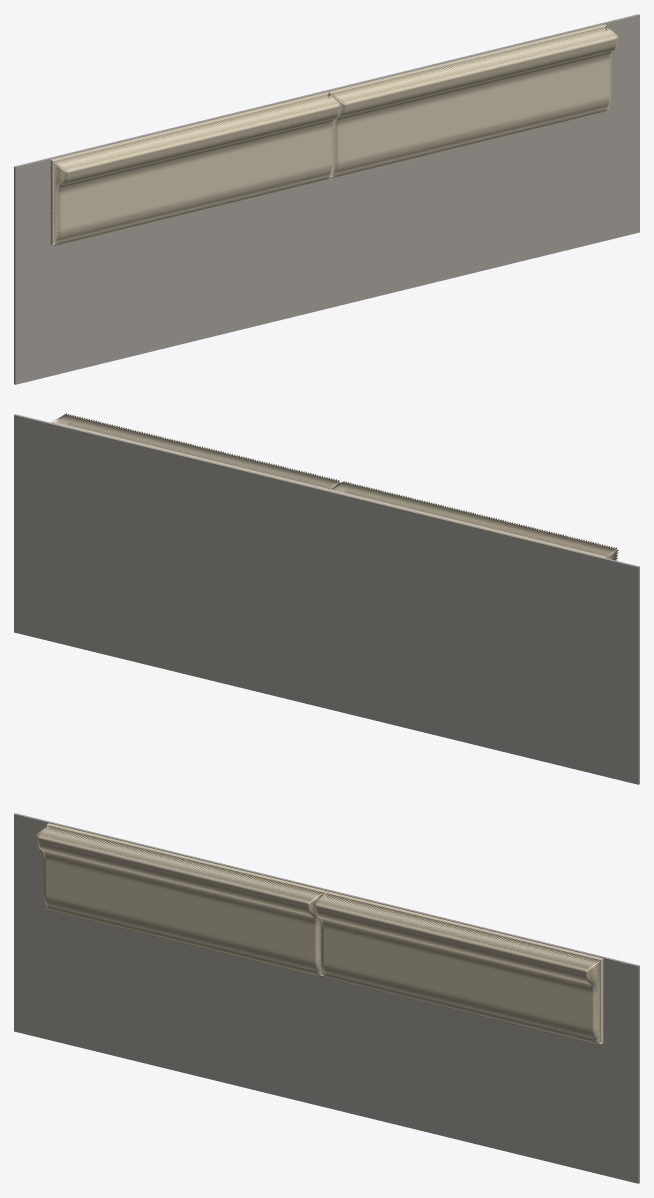
File: terilgan.glb
3 views of the same model, one above another, from view 1: azimuth 30°, elevation 25°; view 2: azimuth 150°, elevation 25°; view 3: azimuth 330°, elevation 25° (orthographic).
Visible parts, largest first — view 1: Devor, t0, t1; view 2: Devor, t0, t1; view 3: Devor, t1, t0.
Part boxes in pixels (x1=…): Devor: x1=14, y1=14, x2=639, y2=384; t0: x1=50, y1=92, x2=340, y2=246; t1: x1=328, y1=24, x2=618, y2=178; Devor: x1=14, y1=414, x2=639, y2=784; t0: x1=328, y1=481, x2=618, y2=560; t1: x1=51, y1=413, x2=341, y2=490; Devor: x1=14, y1=813, x2=639, y2=1183; t1: x1=313, y1=891, x2=603, y2=1045; t0: x1=35, y1=823, x2=325, y2=977.
Size of the model in its own units: 2.71 by 0.9 by 0.1171.
